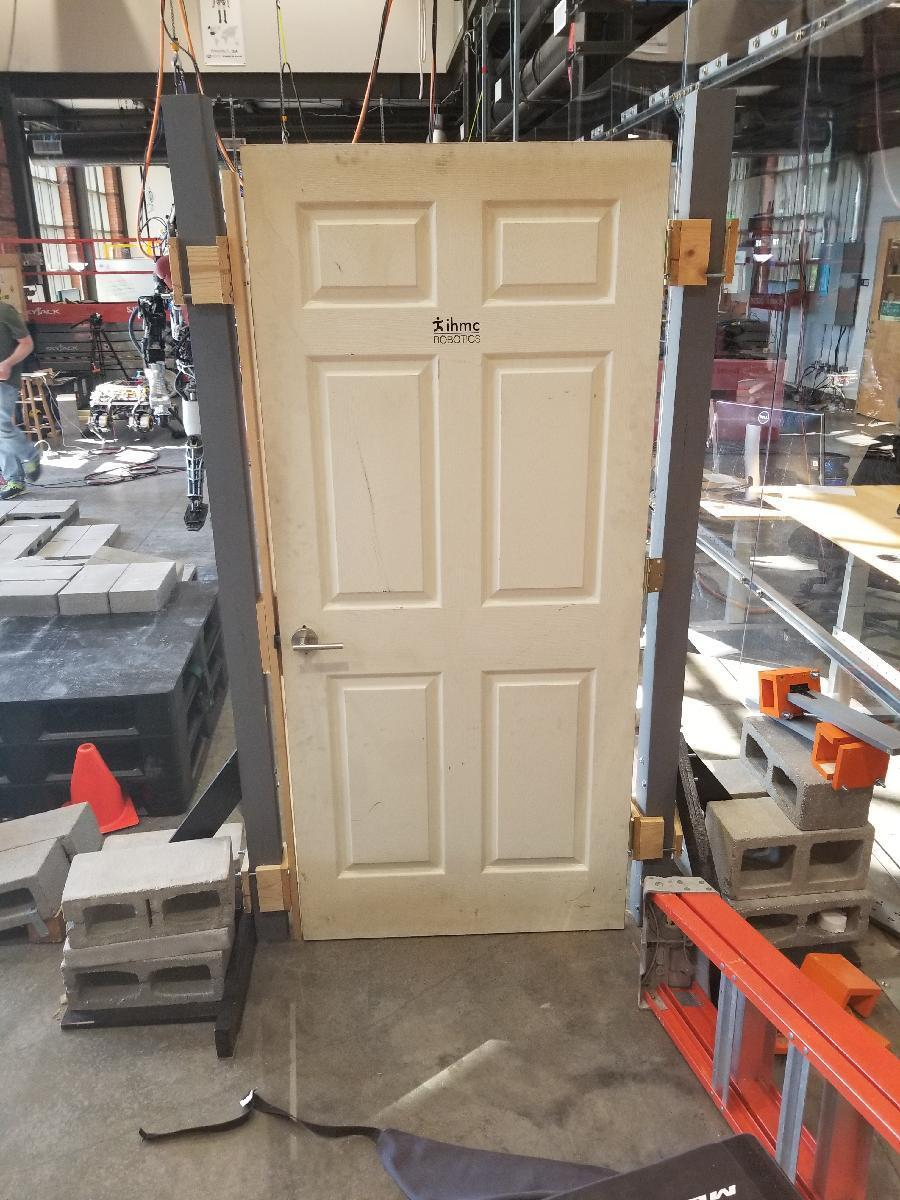door: (246, 148, 671, 937)
handle: (286, 621, 350, 661)
